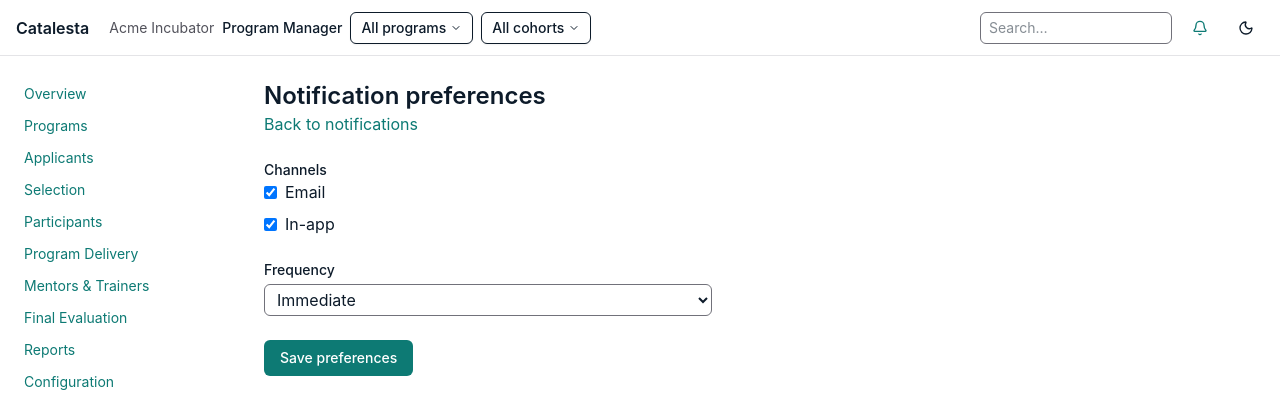
Test case: toggling a channel and saving shows a confirmation
Click the checkbox labelled "Email" at (270, 192), box x1=264 y1=186 x2=277 y2=198
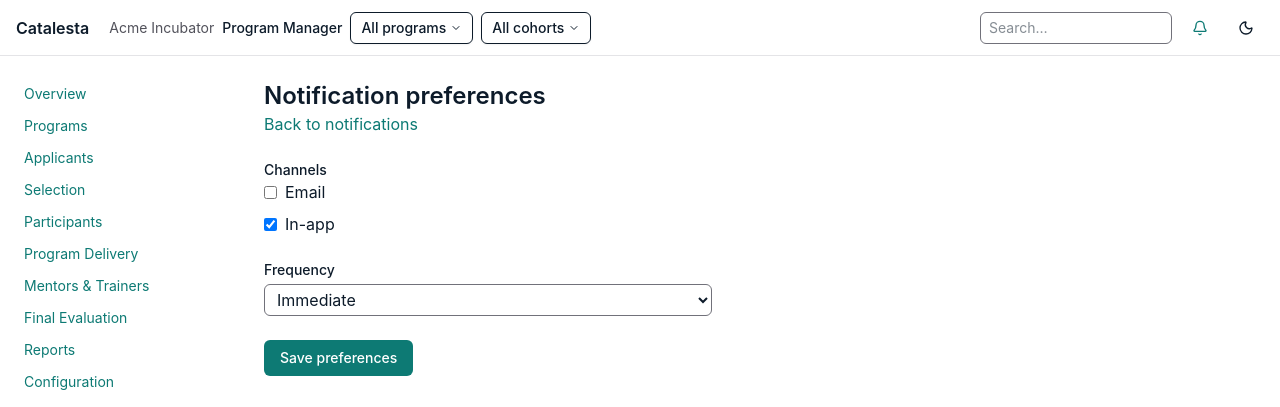
Click the button "Save preferences" at (339, 358), box x1=264 y1=340 x2=413 y2=376
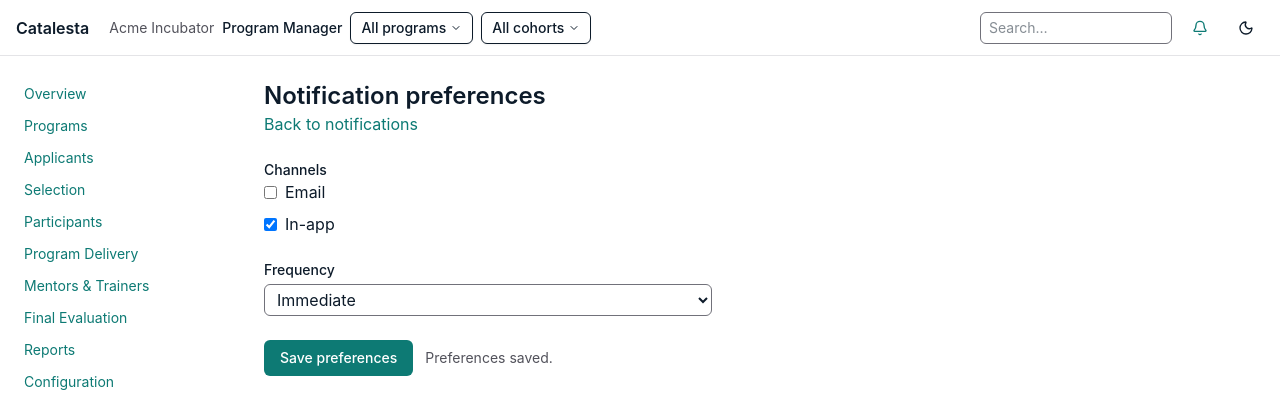
Now the message shows "saved", box x1=425 y1=349 x2=553 y2=366
